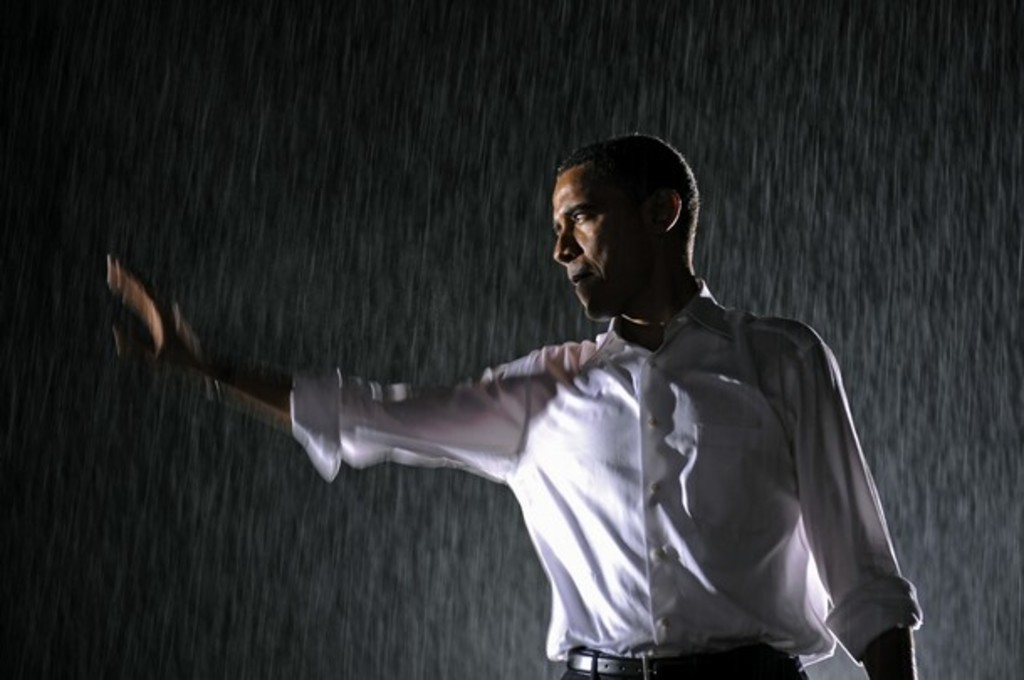Human-face: (546, 166, 655, 324)
